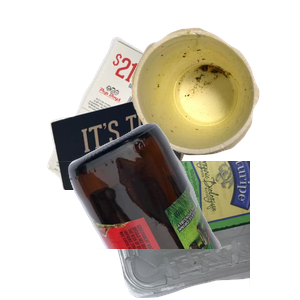glass: (66, 120, 300, 300)
paper: (45, 34, 230, 214)
plastic: (23, 161, 263, 300)
trash: (129, 25, 300, 173)
